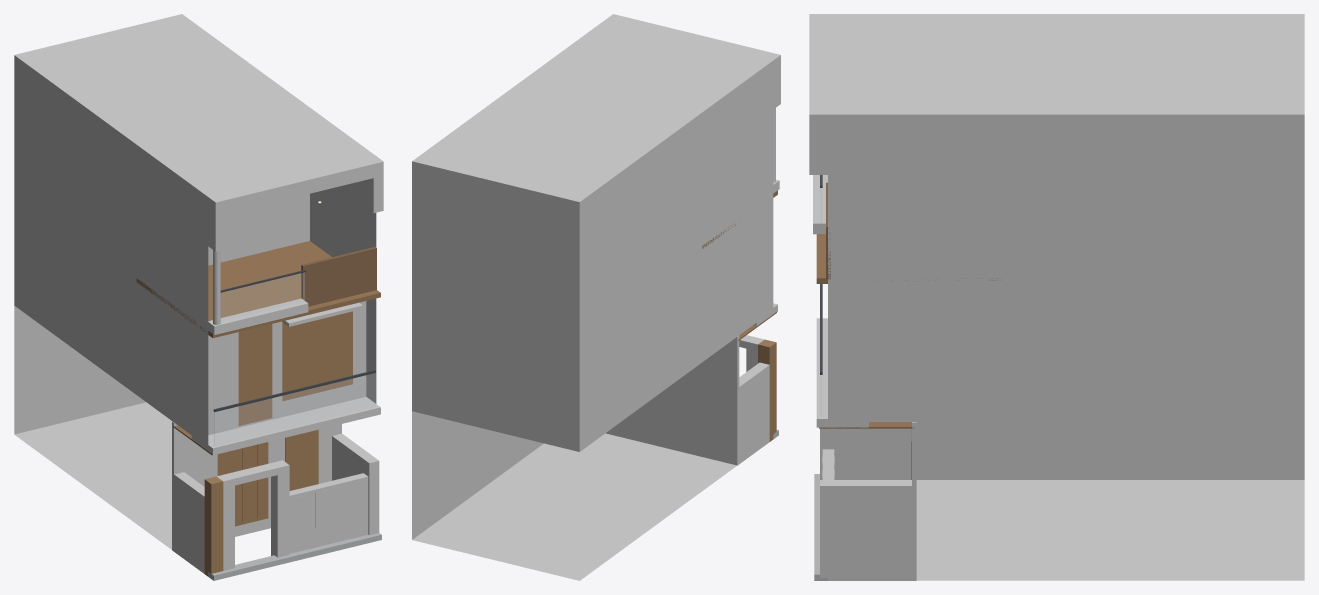
3 renders of one model, left to right at view 1: azimuth 30°, elevation 25°; view 2: azimuth 150°, elevation 25°; view 3: azimuth 270°, elevation 25°, orthographic. The views are drawn at different scales.
Parts seen in each view (by area): view 1: Object_4, Object_68; view 2: Object_4; view 3: Object_4.
Boxes of the visible parts, <box> form: Object_4: <box>14,14,383,580</box>; Object_68: <box>214,272,375,445</box>; Object_4: <box>412,14,780,580</box>; Object_4: <box>809,14,1304,580</box>.
Bounding box in the file's own units: 5 × 10.8 × 10.39.
